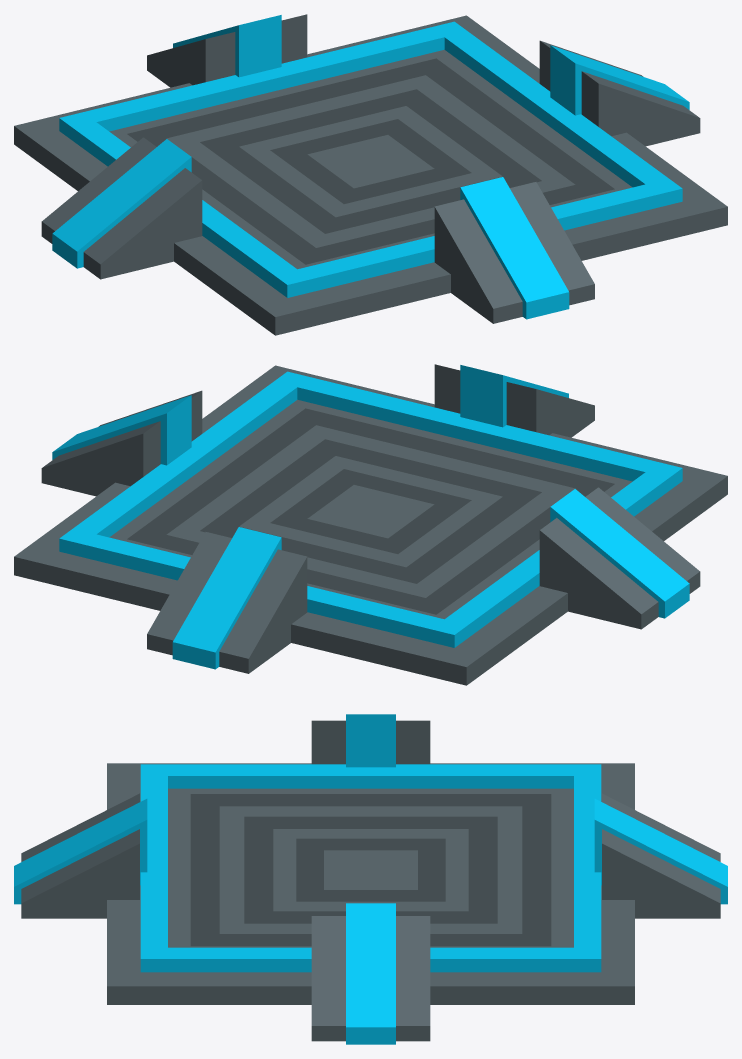
File: Portal 01.FBX
3 views of the same model, one above another, from view 1: azimuth 30°, elevation 25°; view 2: azimuth 150°, elevation 25°; view 3: azimuth 270°, elevation 25° (orthographic).
Visible parts, largest first — view 1: Portal 01; view 2: Portal 01; view 3: Portal 01.
Boxes of the visible parts, left/top/right/bottom form: Portal 01: left=14, top=14, right=727, bottom=335; Portal 01: left=14, top=364, right=727, bottom=685; Portal 01: left=14, top=714, right=727, bottom=1044.
Bounding box in the file's own units: 332 × 43.49 × 332.
